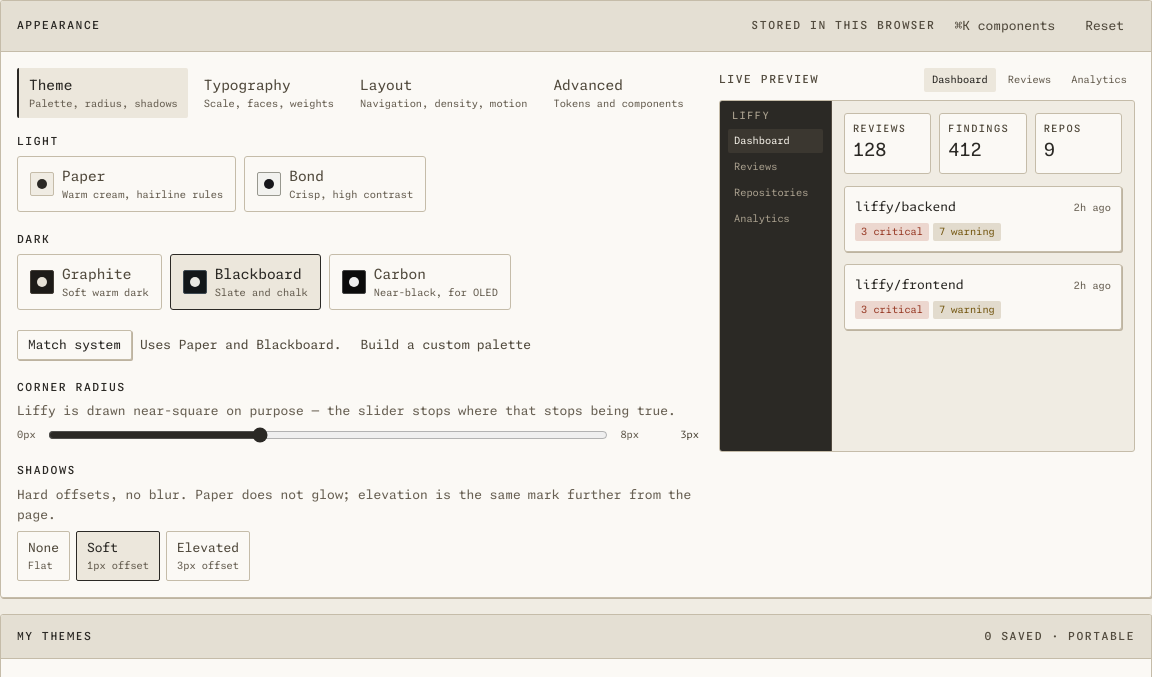
Test case: Appearance › resets everything, which is what undo means on a page with no Cancel
Click the button "Layout Navigation, density, motion".
click(443, 93)  # box [348,68,537,118]
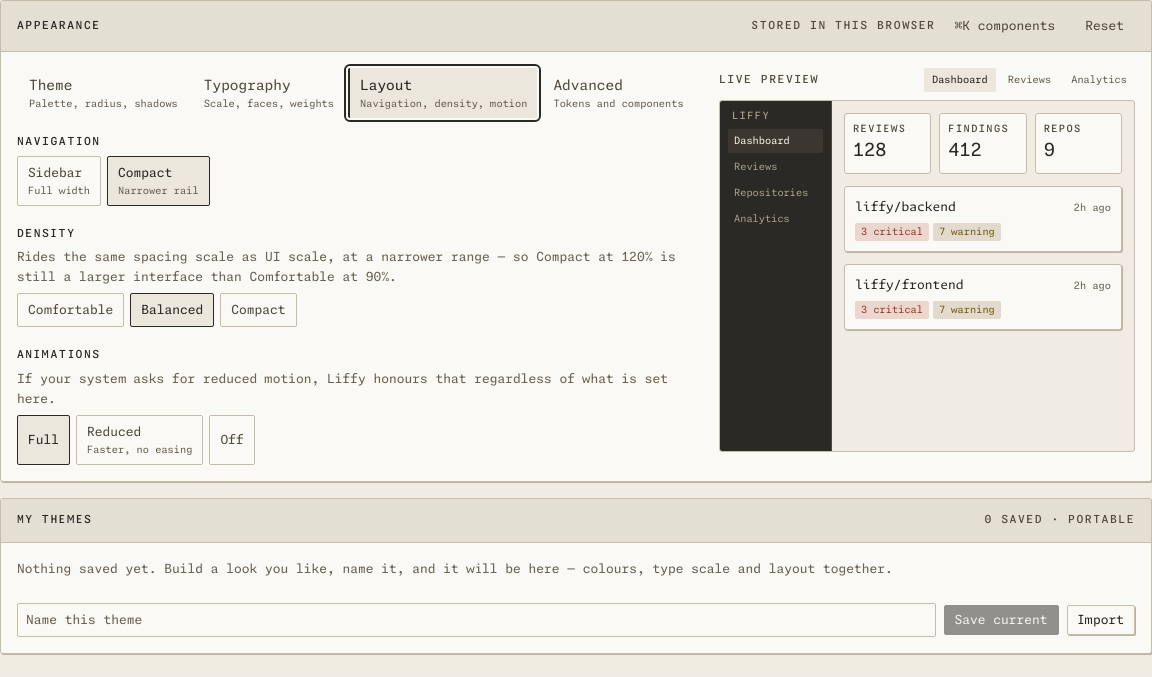
Click the 1st text "Compact".
click(145, 172)  # box [118,165,172,180]
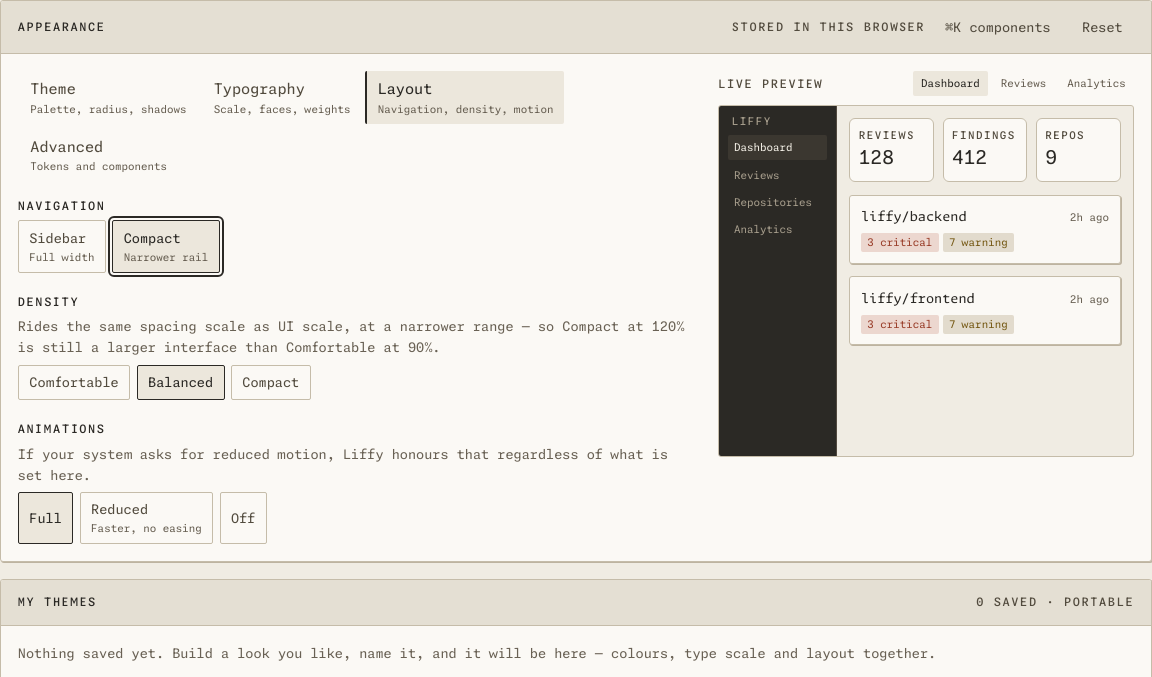
Click the button "Reset".
click(1102, 27)  # box [1071,12,1134,43]
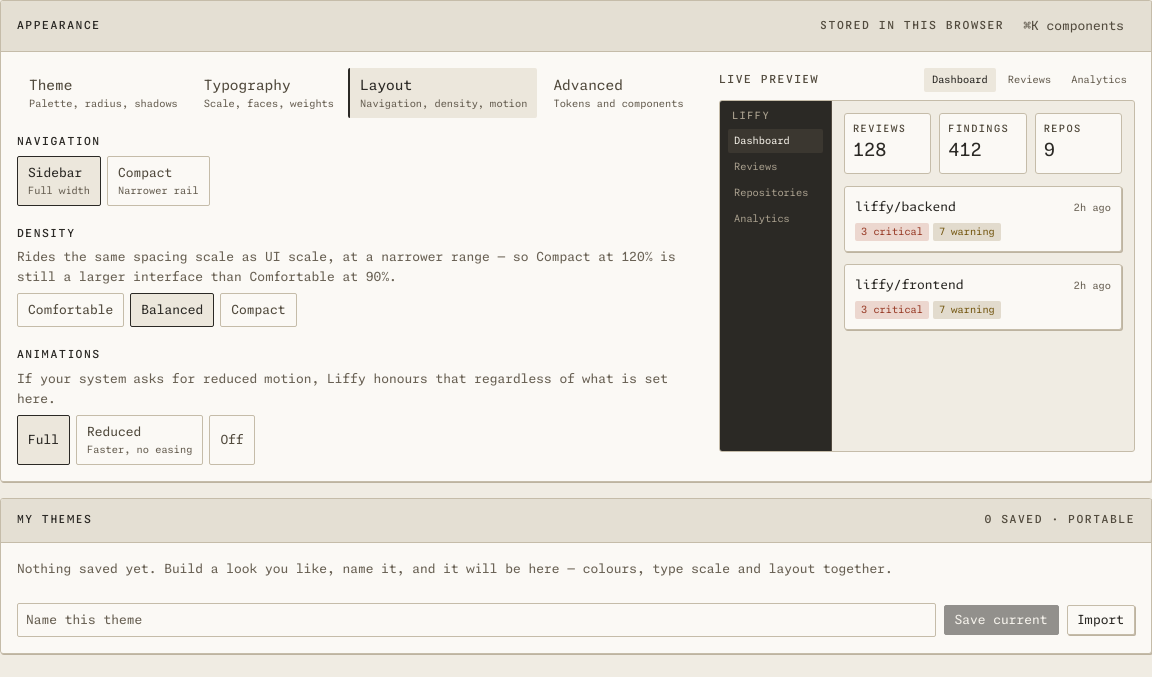
Now the button "Reset" is gone
